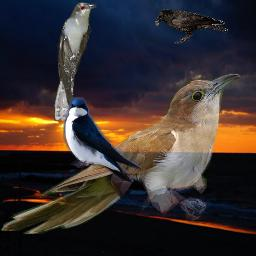Crow: (154, 9, 228, 44)
Cuckoo: (0, 72, 240, 234), (53, 1, 98, 121)
Swallow: (63, 97, 141, 182)
